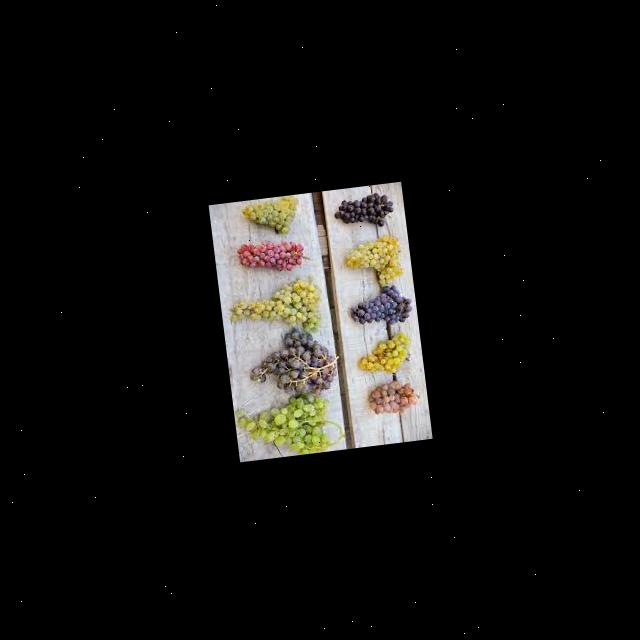grape: (244, 319, 344, 402), (234, 387, 347, 460), (236, 234, 312, 276), (348, 282, 414, 328), (242, 193, 303, 238), (332, 189, 396, 231), (367, 376, 422, 415)
